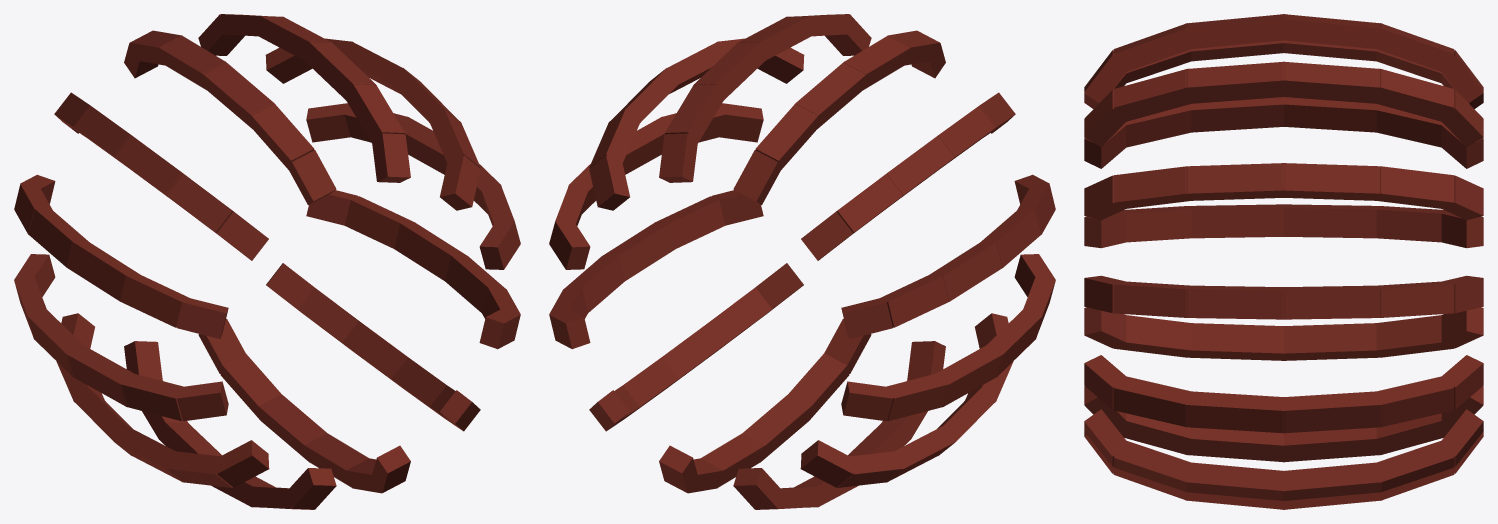
The model's file is th_tf_coils.obj.
The picture shows the model from 3 angles, left to right: view 1: azimuth 30°, elevation 25°; view 2: azimuth 150°, elevation 25°; view 3: azimuth 270°, elevation 25°; orthographic projection. The views are drawn at different scales.
Parts seen in each view (by area): view 1: th_tf_coils; view 2: th_tf_coils; view 3: th_tf_coils.
Part boxes in pixels (<box>): th_tf_coils: <box>14,14,520,509</box>; th_tf_coils: <box>549,14,1055,509</box>; th_tf_coils: <box>1084,14,1483,509</box>.
Size of the model in its own units: 5.03 by 5.03 by 4.11.
